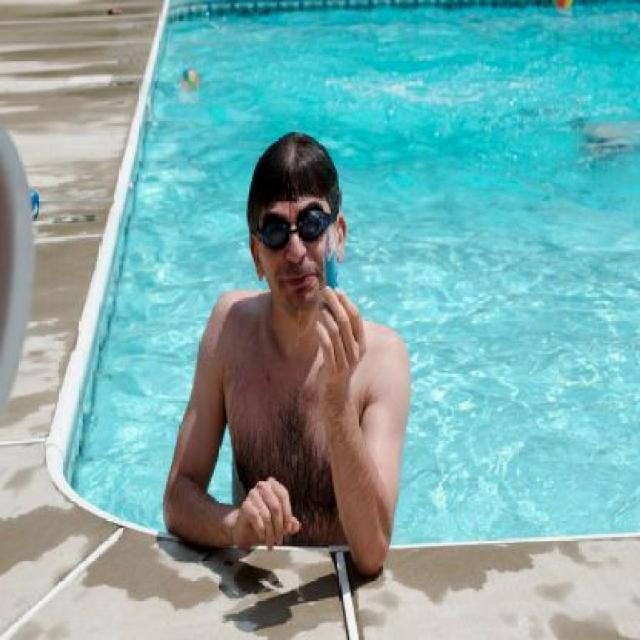face_nomask: (259, 204, 330, 298)
glasses: (253, 200, 335, 252)
hand_noglove: (308, 283, 368, 383), (230, 476, 302, 544)
head_nohelmet: (241, 125, 348, 217)
person: (157, 124, 414, 582)
